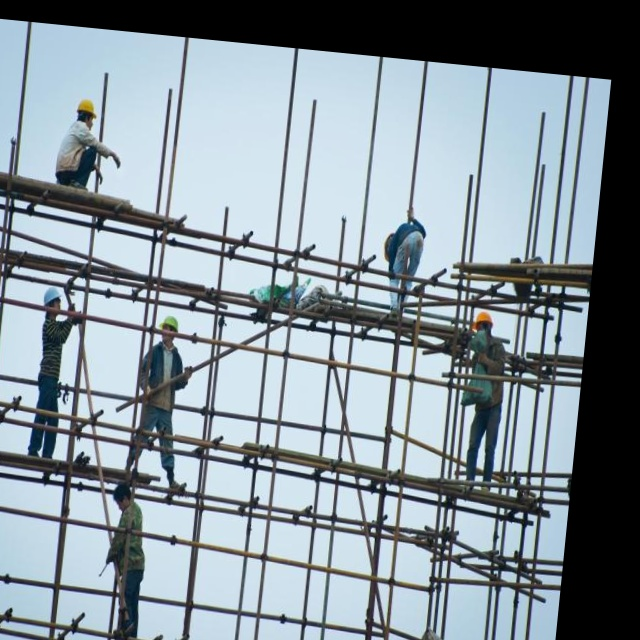Con_Casco: (41, 285, 64, 316), (75, 100, 98, 131), (160, 315, 180, 345)
